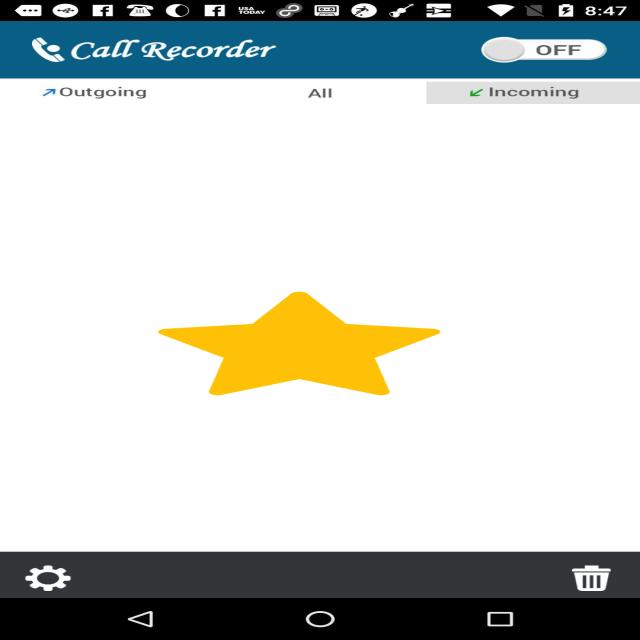forced continuity: (158, 292, 440, 395)
